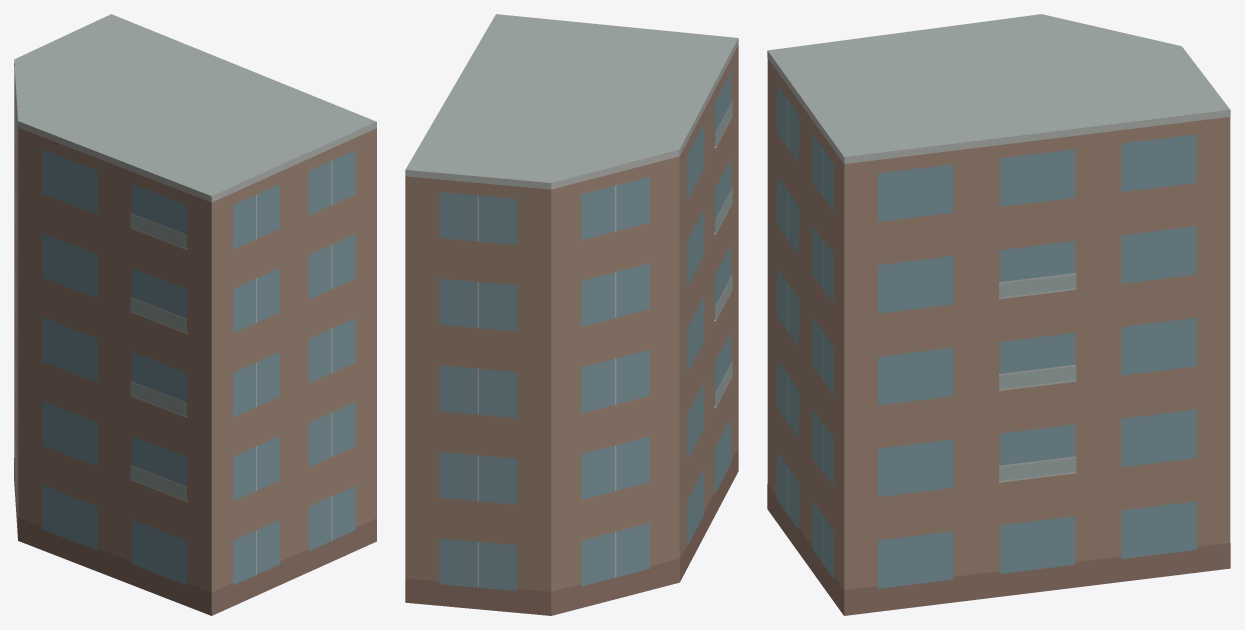
File: survey-upis-32898921.glb
3 views of the same model, side by side, from view 1: azimuth 30°, elevation 25°; view 2: azimuth 150°, elevation 25°; view 3: azimuth 270°, elevation 25° (orthographic). The views are drawn at different scales.
Parts seen in each view (by area): view 1: survey-upis-32898921.tmp; view 2: survey-upis-32898921.tmp; view 3: survey-upis-32898921.tmp.
Part boxes in pixels (<box>): survey-upis-32898921.tmp: <box>14,14,376,615</box>; survey-upis-32898921.tmp: <box>405,14,738,615</box>; survey-upis-32898921.tmp: <box>767,14,1230,615</box>.
Size of the model in its own units: 10.75 by 16.05 by 14.69.
